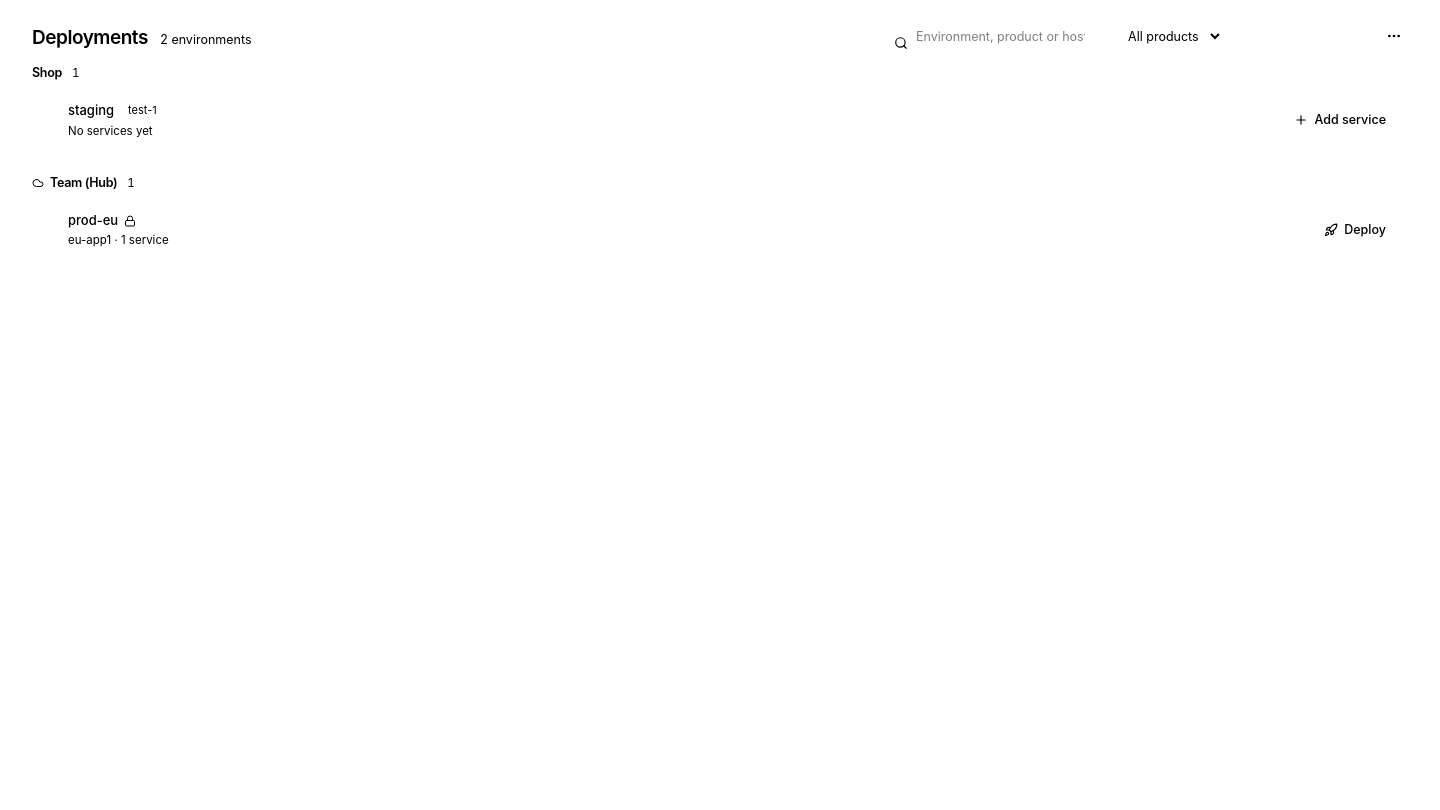
Test: team deployments › a team environment that arrives after the first deploy load becomes deployable
The image size is (1440, 810).
Check: the element "Shop" is shown, box [32,64,1408,150]
Click the button with aria-label "Deploy to prod-eu": (1355, 230) [1314,216,1396,244]
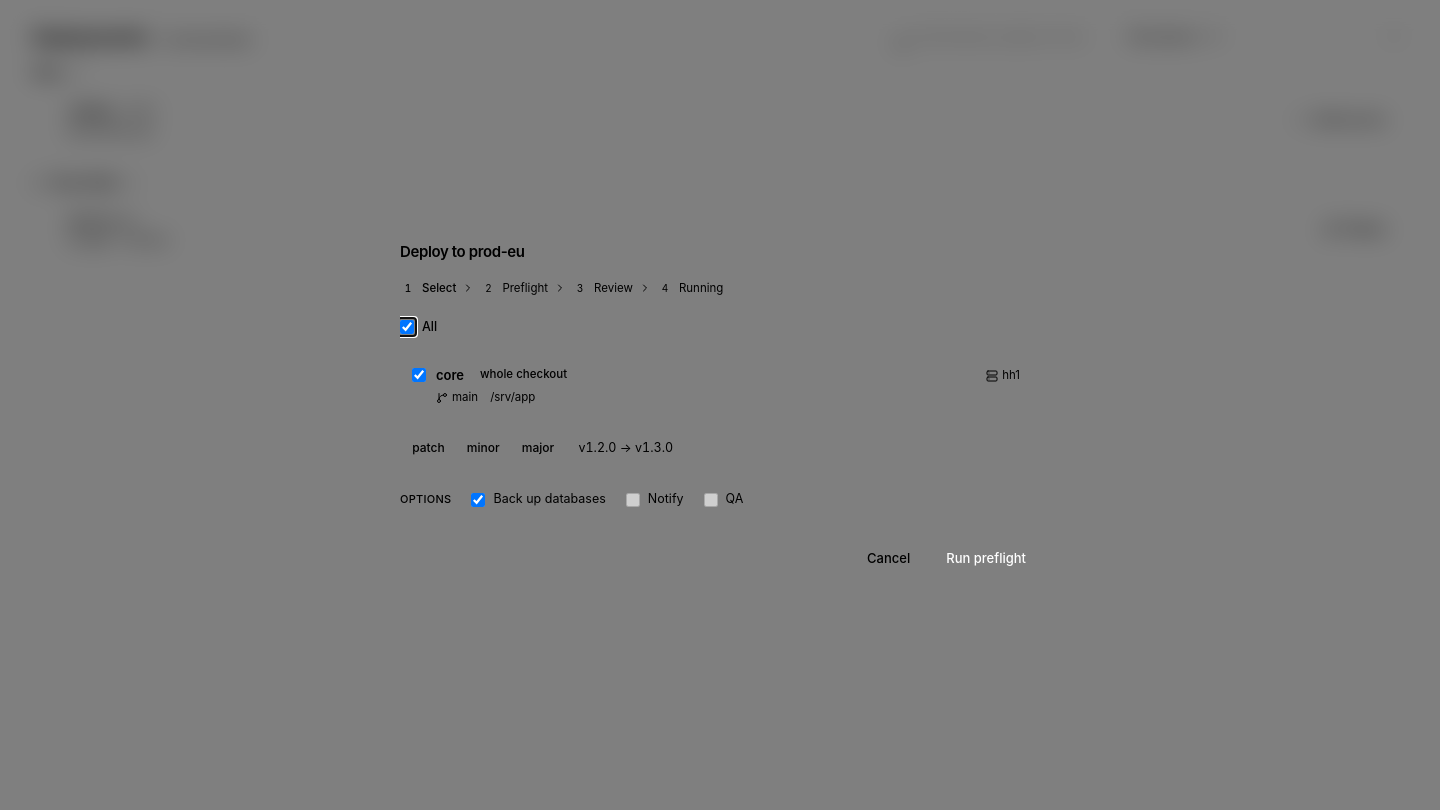
Check: the dialog "Deploy to prod-eu" is shown, box [380,221,1060,589]
Click the button "Cancel": (889, 559) [853,541,924,577]
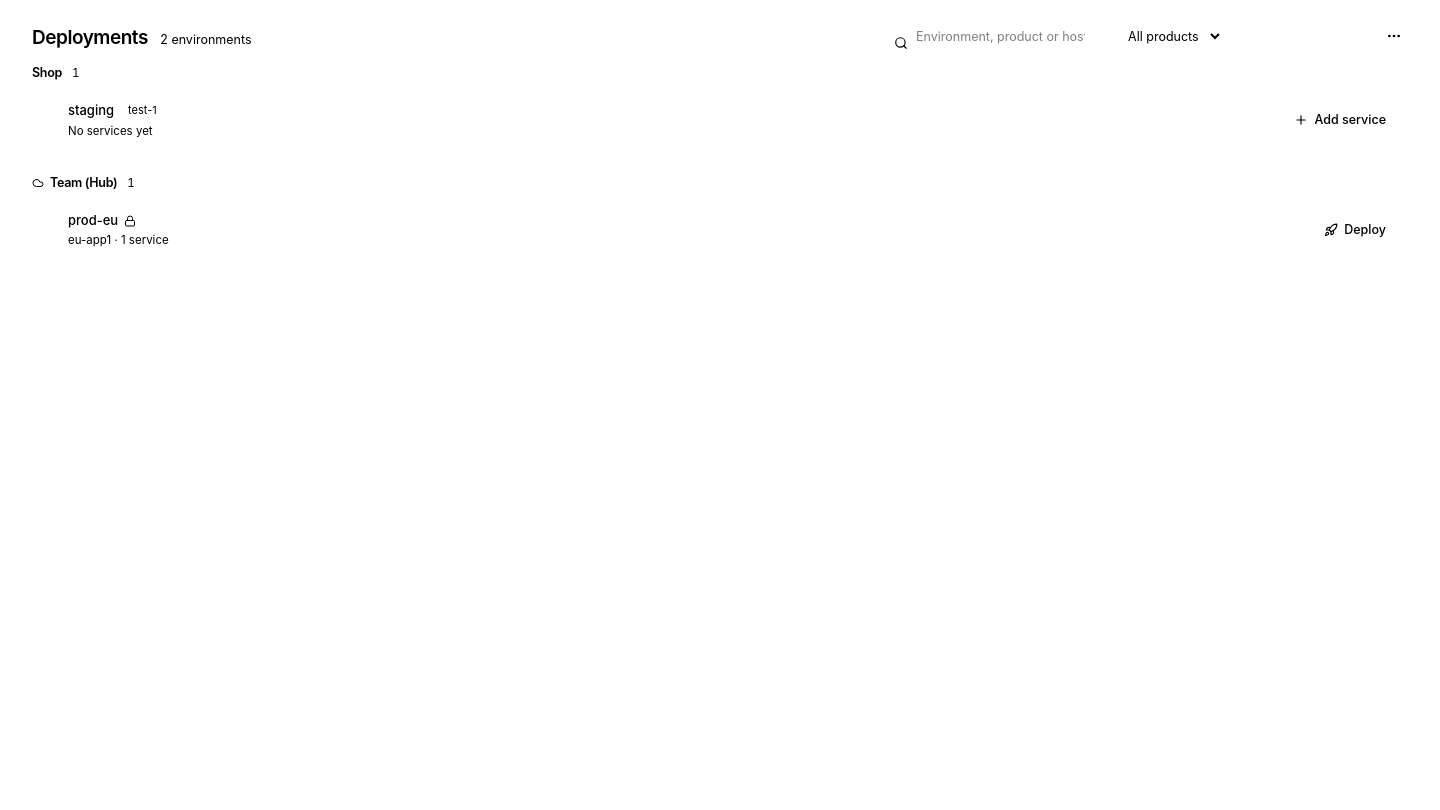
Click the button with aria-label "prod-eu,": (93, 220) [32,201,1302,260]
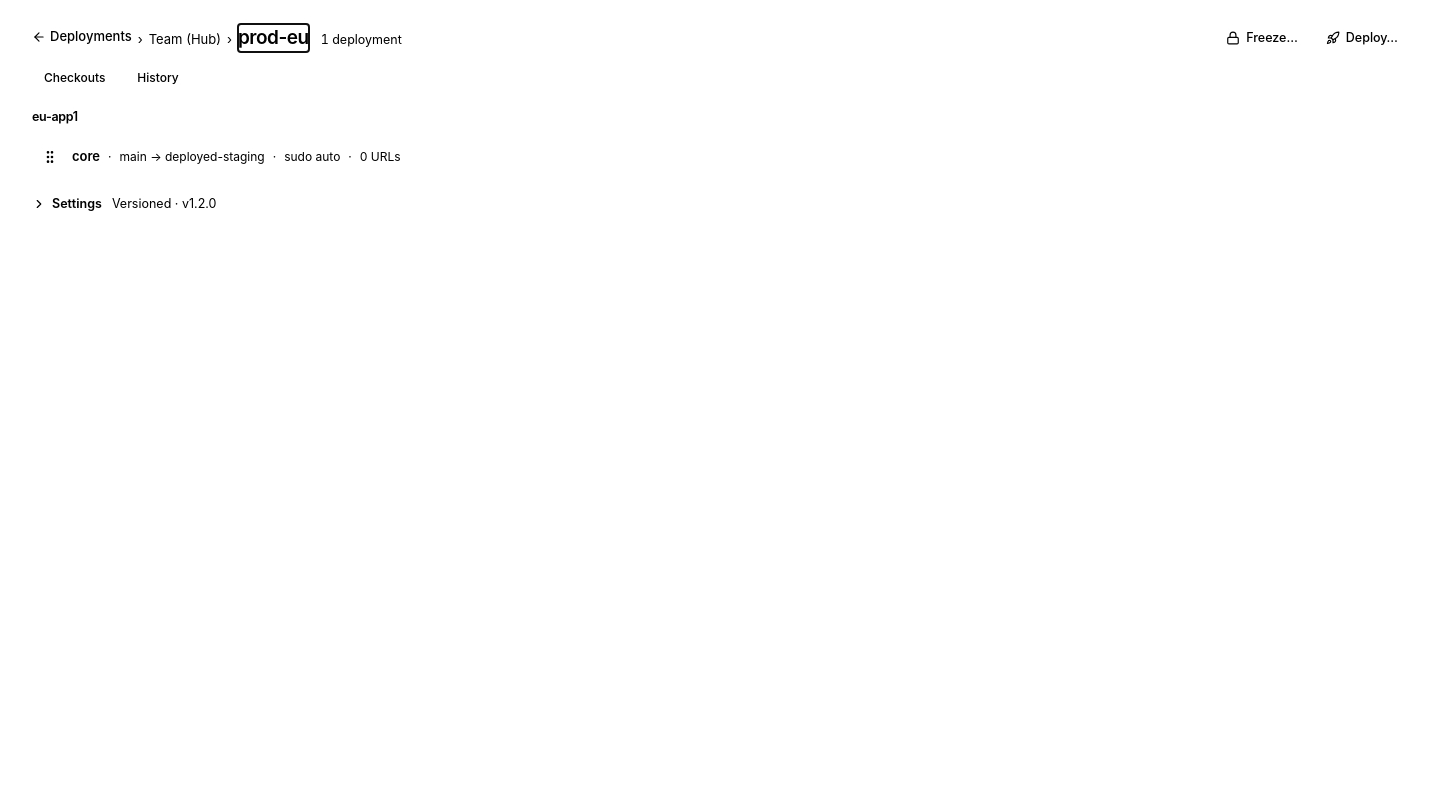
Check: the element "eu-app1" is shown, box [32,109,401,172]
